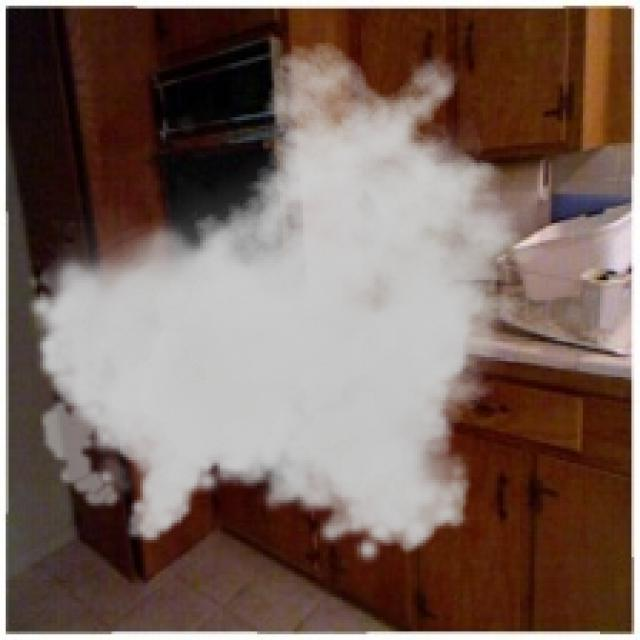smoke: (26, 40, 563, 566)
